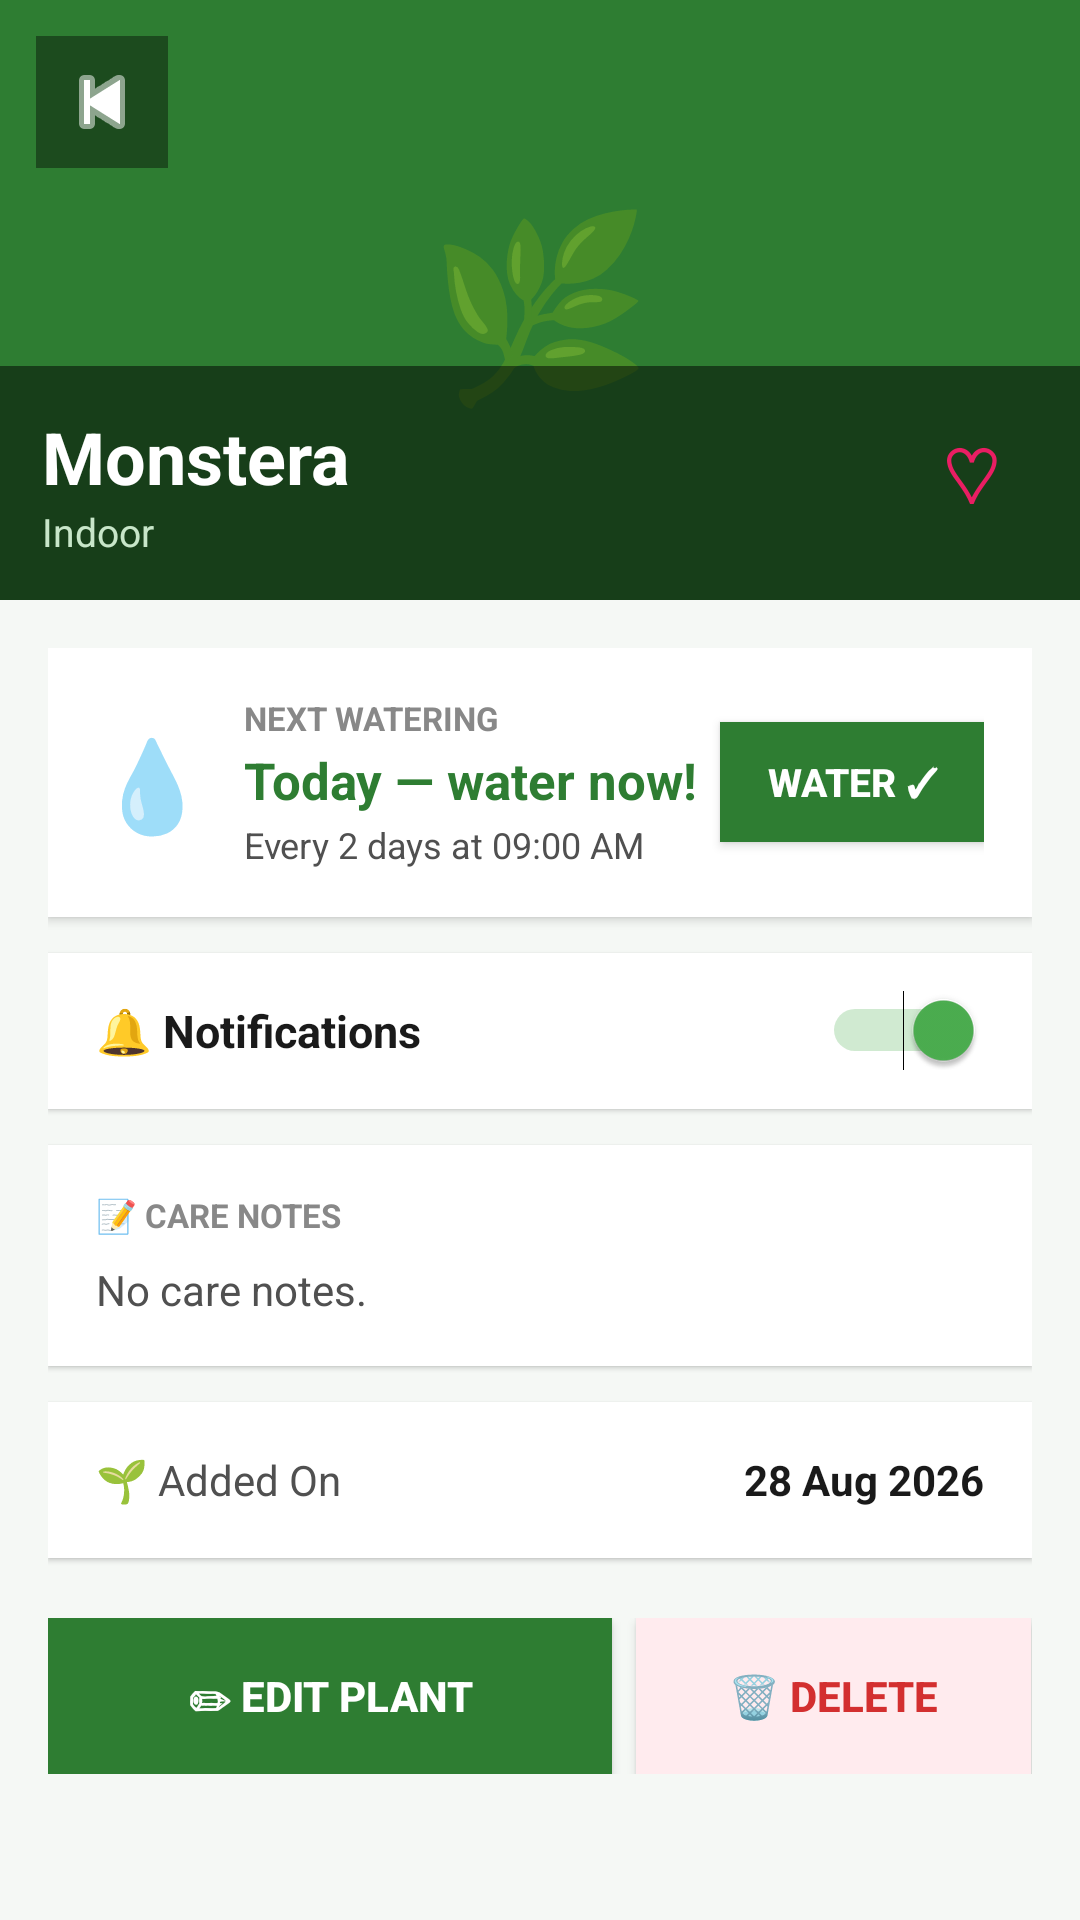

Named icons in this screenshot (1080px x 1920px) and their centers, point (x, y):
Back: point (102, 102)
